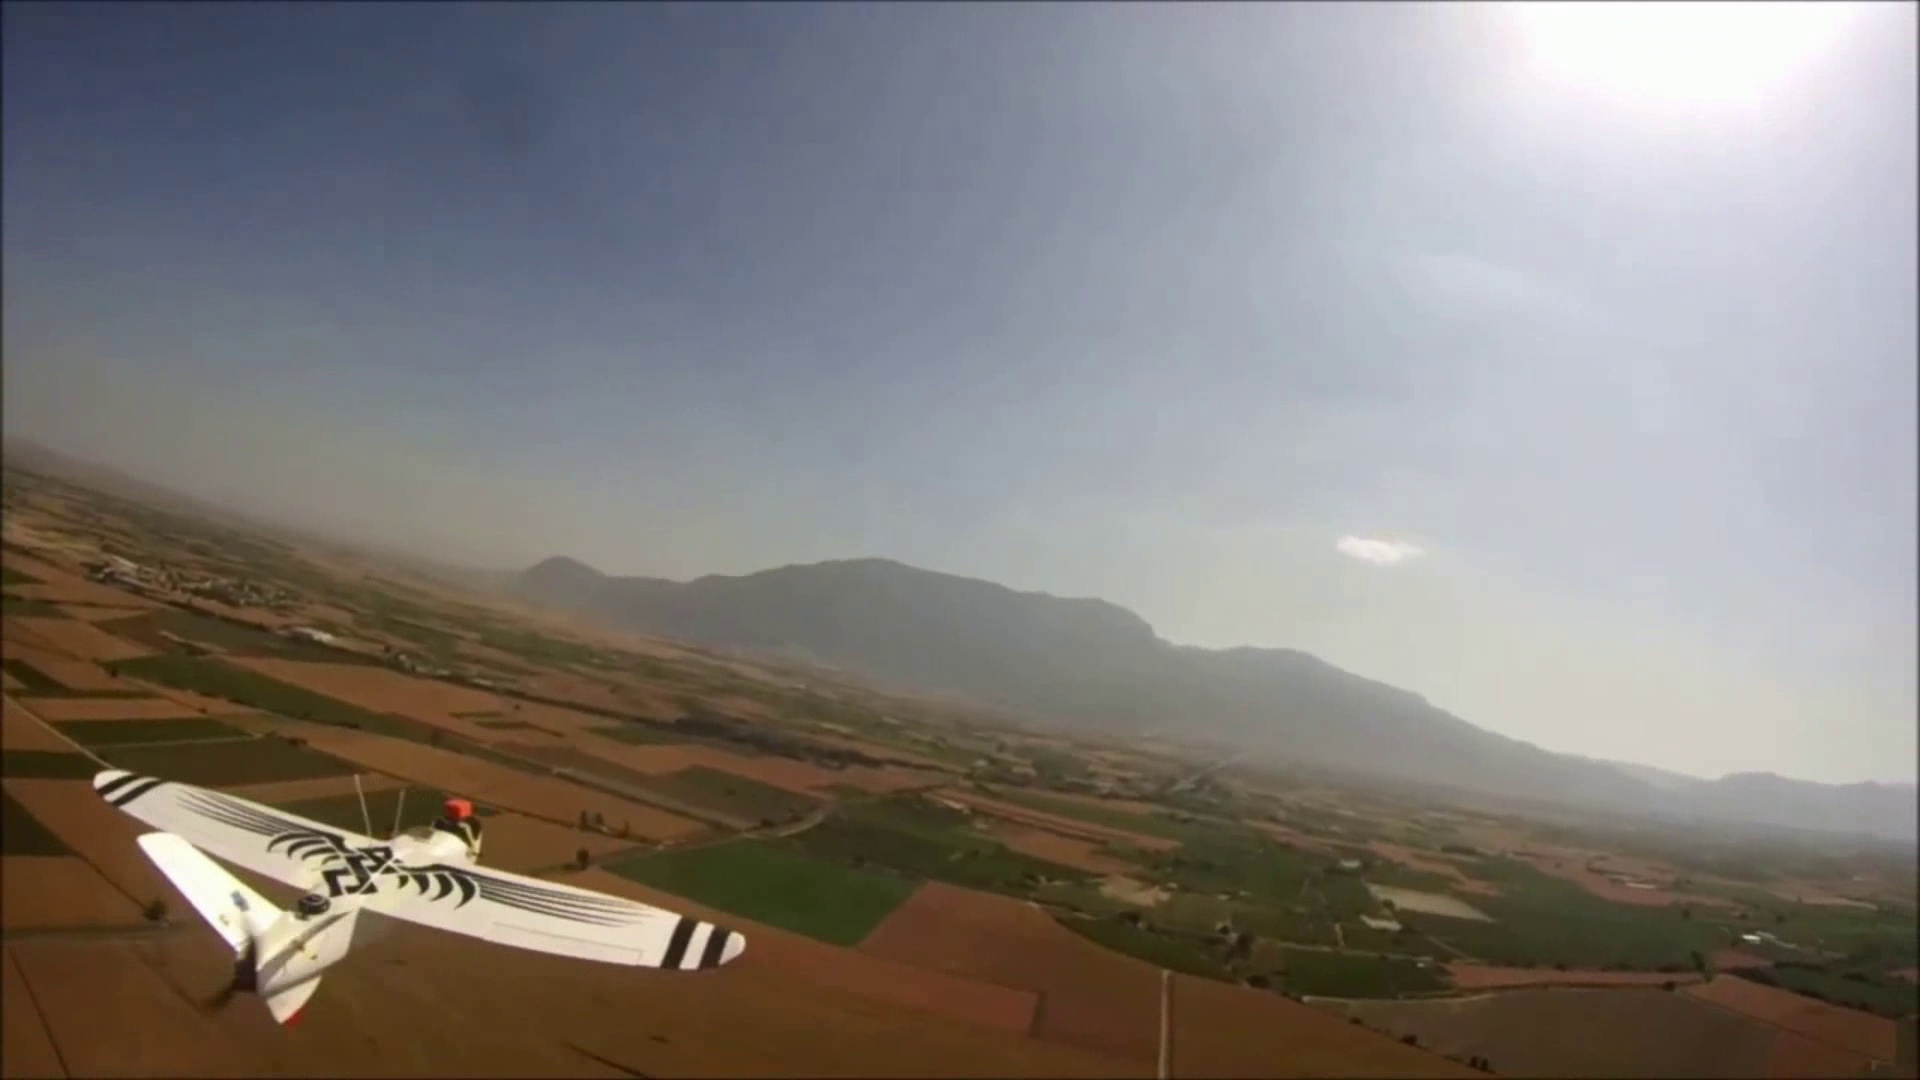airplane: (40, 751, 758, 1028)
